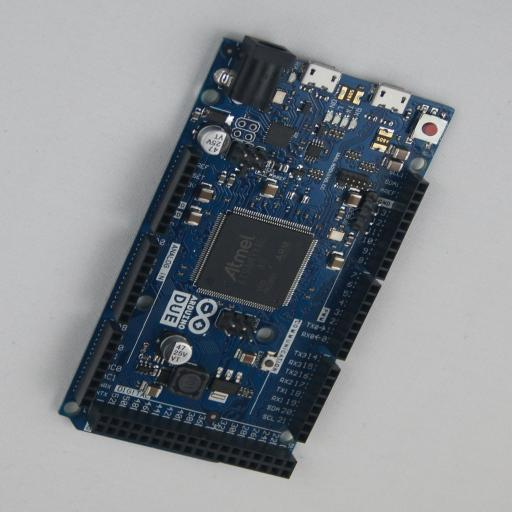Arduino Due: (58, 35, 454, 479)
